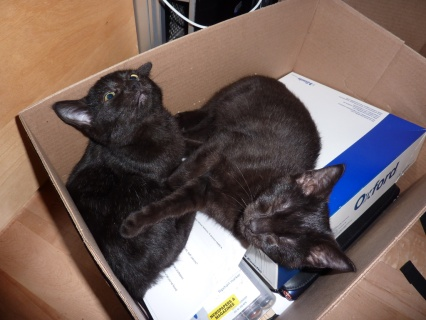Cat: (120, 71, 356, 272), (49, 60, 196, 301)
